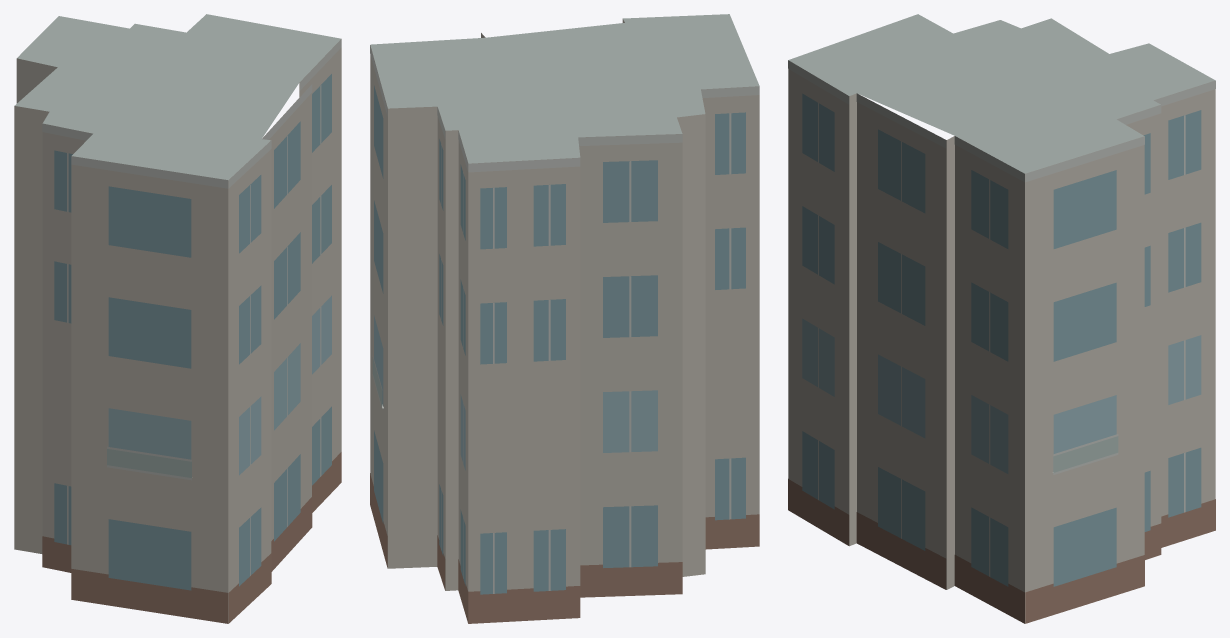
File: survey-upis-32506478.glb
3 renders of one model, left to right at view 1: azimuth 30°, elevation 25°; view 2: azimuth 150°, elevation 25°; view 3: azimuth 270°, elevation 25°, orthographic. The views are drawn at different scales.
Parts seen in each view (by area): view 1: survey-upis-32506478.tmp; view 2: survey-upis-32506478.tmp; view 3: survey-upis-32506478.tmp.
Boxes of the visible parts, x1,y1,x2,y2 form: survey-upis-32506478.tmp: (14,14,341,623); survey-upis-32506478.tmp: (370,14,759,623); survey-upis-32506478.tmp: (788,14,1215,623).
Bounding box in the file's own units: 9.68 × 12.7 × 10.94.
